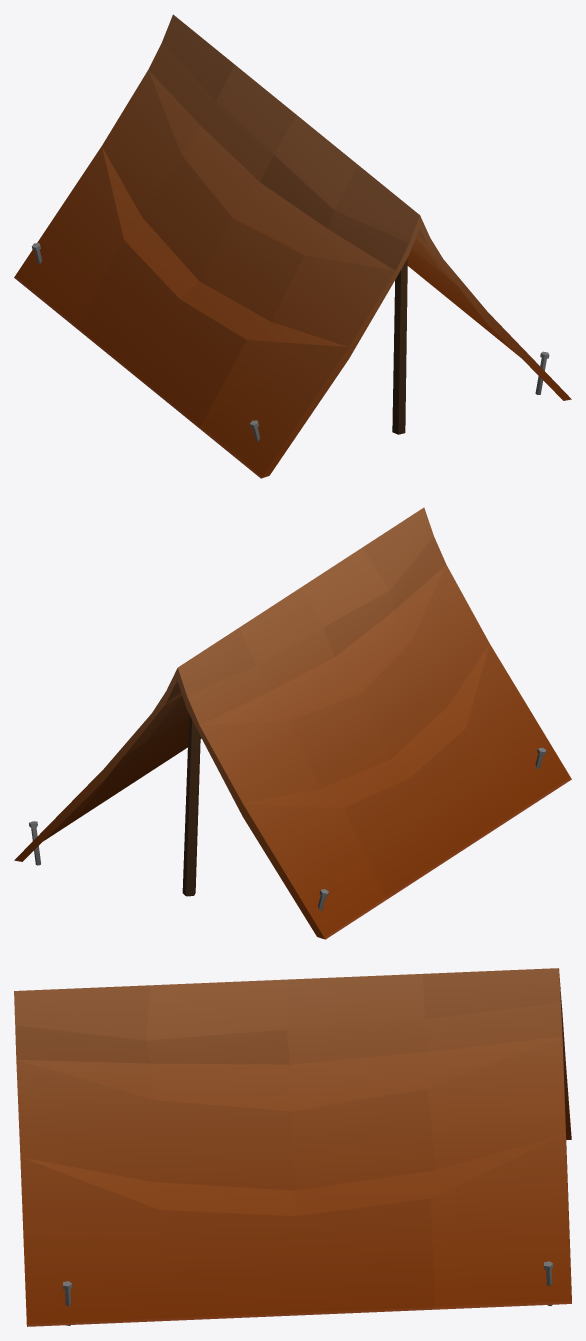
Rendered from tent.fbx.
3 renders of one model, top to bottom at view 1: azimuth 30°, elevation 25°; view 2: azimuth 150°, elevation 25°; view 3: azimuth 270°, elevation 25°, orthographic. The views are drawn at different scales.
Parts seen in each view (by area): view 1: Tent; view 2: Tent; view 3: Tent.
Part boxes in pixels (x1,y1,x2,y2): Tent: (14, 14, 571, 478); Tent: (14, 507, 571, 939); Tent: (14, 968, 571, 1326).
Bounding box in the file's own units: 300 × 234 × 422.
